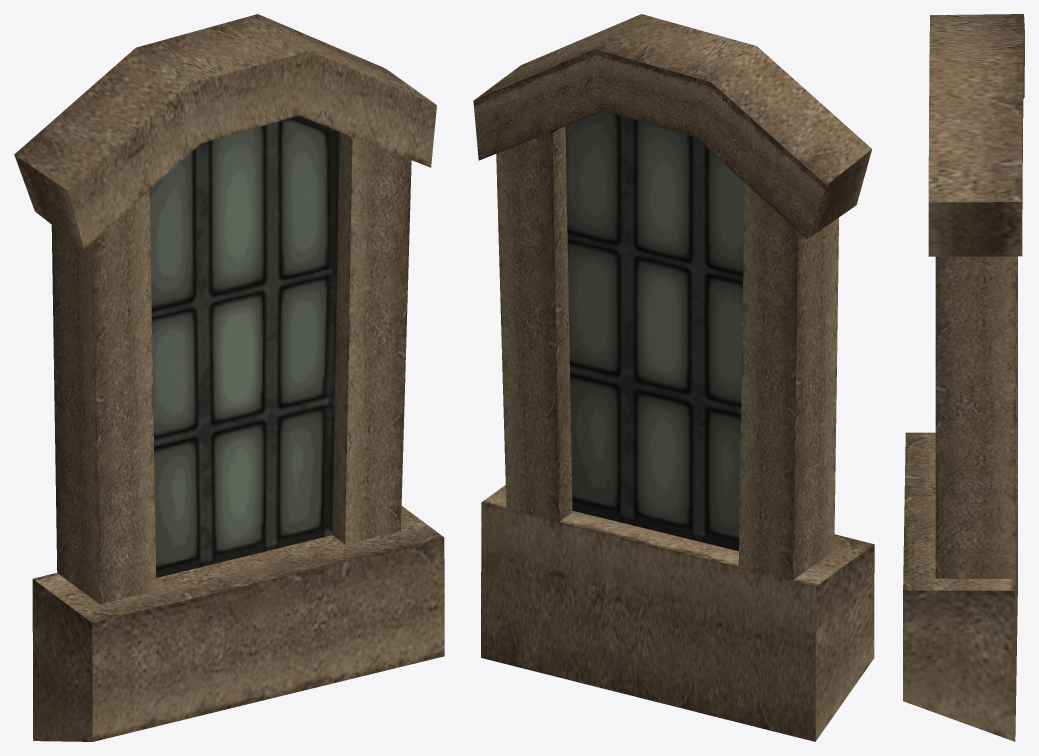
The model's file is Window_10.fbx.
3 renders of one model, left to right at view 1: azimuth 30°, elevation 25°; view 2: azimuth 150°, elevation 25°; view 3: azimuth 270°, elevation 25°, orthographic. The views are drawn at different scales.
Parts seen in each view (by area): view 1: Window_10; view 2: Window_10; view 3: Window_10.
Part boxes in pixels (x1=…): Window_10: x1=14, y1=14, x2=444, y2=741; Window_10: x1=473, y1=14, x2=874, y2=741; Window_10: x1=903, y1=14, x2=1024, y2=741.
Size of the model in its own units: 1.42 by 2.45 by 0.4344.
